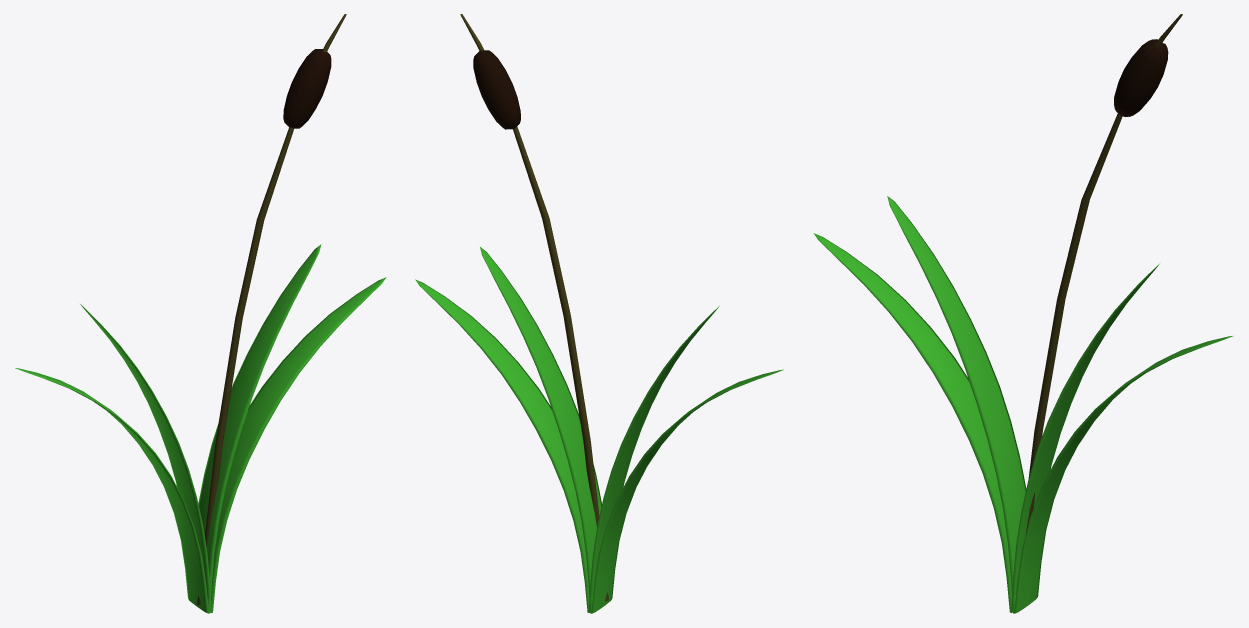
Rendered from Quenouille2.FBX.
3 views of the same model, side by side, from view 1: azimuth 30°, elevation 25°; view 2: azimuth 150°, elevation 25°; view 3: azimuth 330°, elevation 25° (orthographic). The views are drawn at different scales.
Visible parts, largest first — view 1: Object003; view 2: Object003; view 3: Object003.
Boxes of the visible parts, box(x1,y1,x2,y2) form: Object003: box(15, 14, 386, 613); Object003: box(415, 14, 783, 613); Object003: box(813, 14, 1233, 613).
Size of the model in its own units: 21.41 by 30.69 by 2.11.
